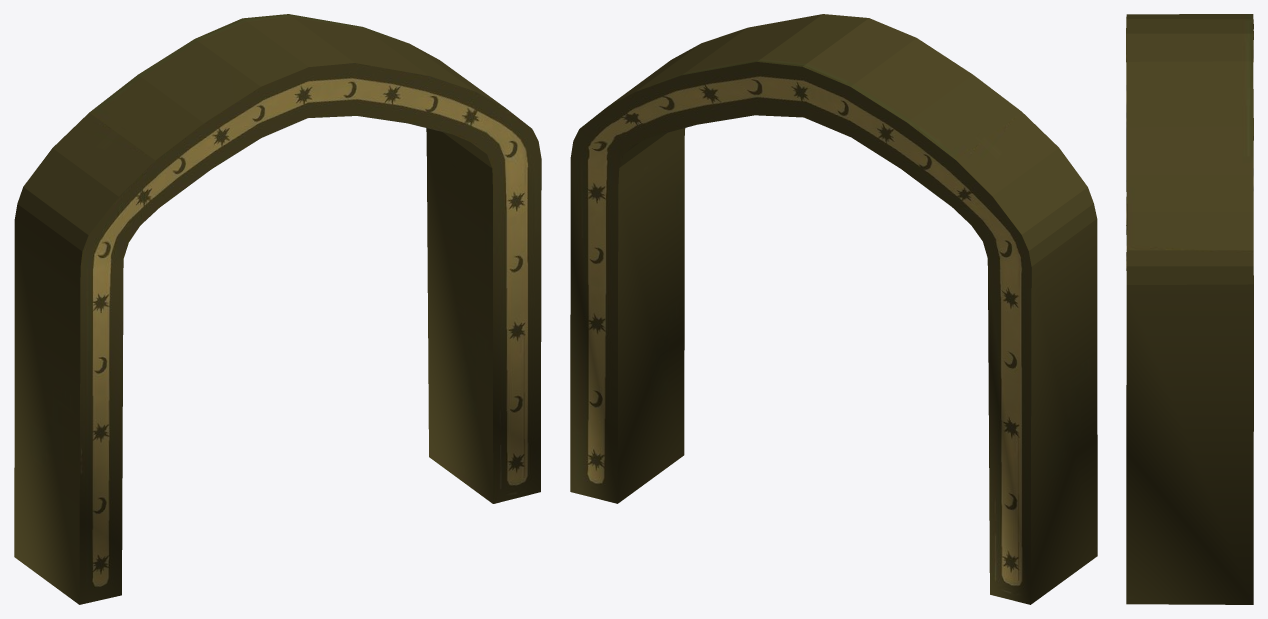
The model's file is doorFrameCompressed.glb.
3 renders of one model, left to right at view 1: azimuth 30°, elevation 25°; view 2: azimuth 150°, elevation 25°; view 3: azimuth 270°, elevation 25°, orthographic. The views are drawn at different scales.
Visible parts, largest first — view 1: doorFrameLP; view 2: doorFrameLP; view 3: doorFrameLP.
Boxes of the visible parts, x1=… form: doorFrameLP: x1=14, y1=14, x2=541, y2=604; doorFrameLP: x1=570, y1=14, x2=1097, y2=604; doorFrameLP: x1=1126, y1=14, x2=1253, y2=604.
Size of the model in its own units: 2 by 2 by 0.5.
Materials: 1 (1 with a texture image).
